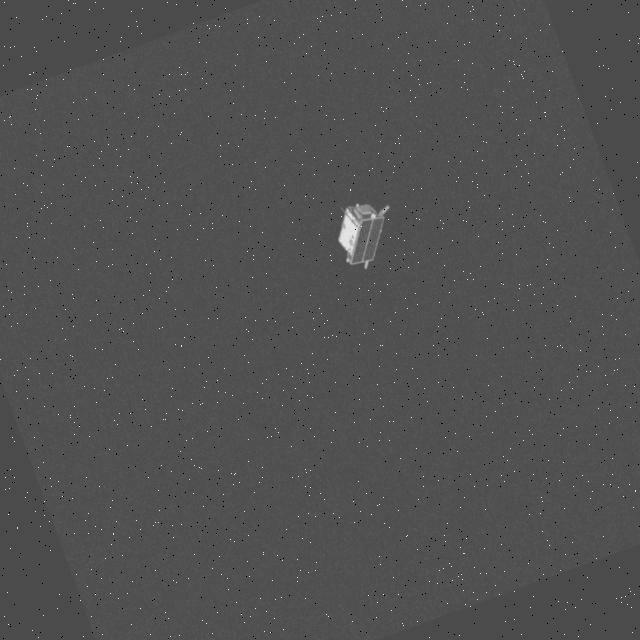satellite: (336, 192, 390, 274)
